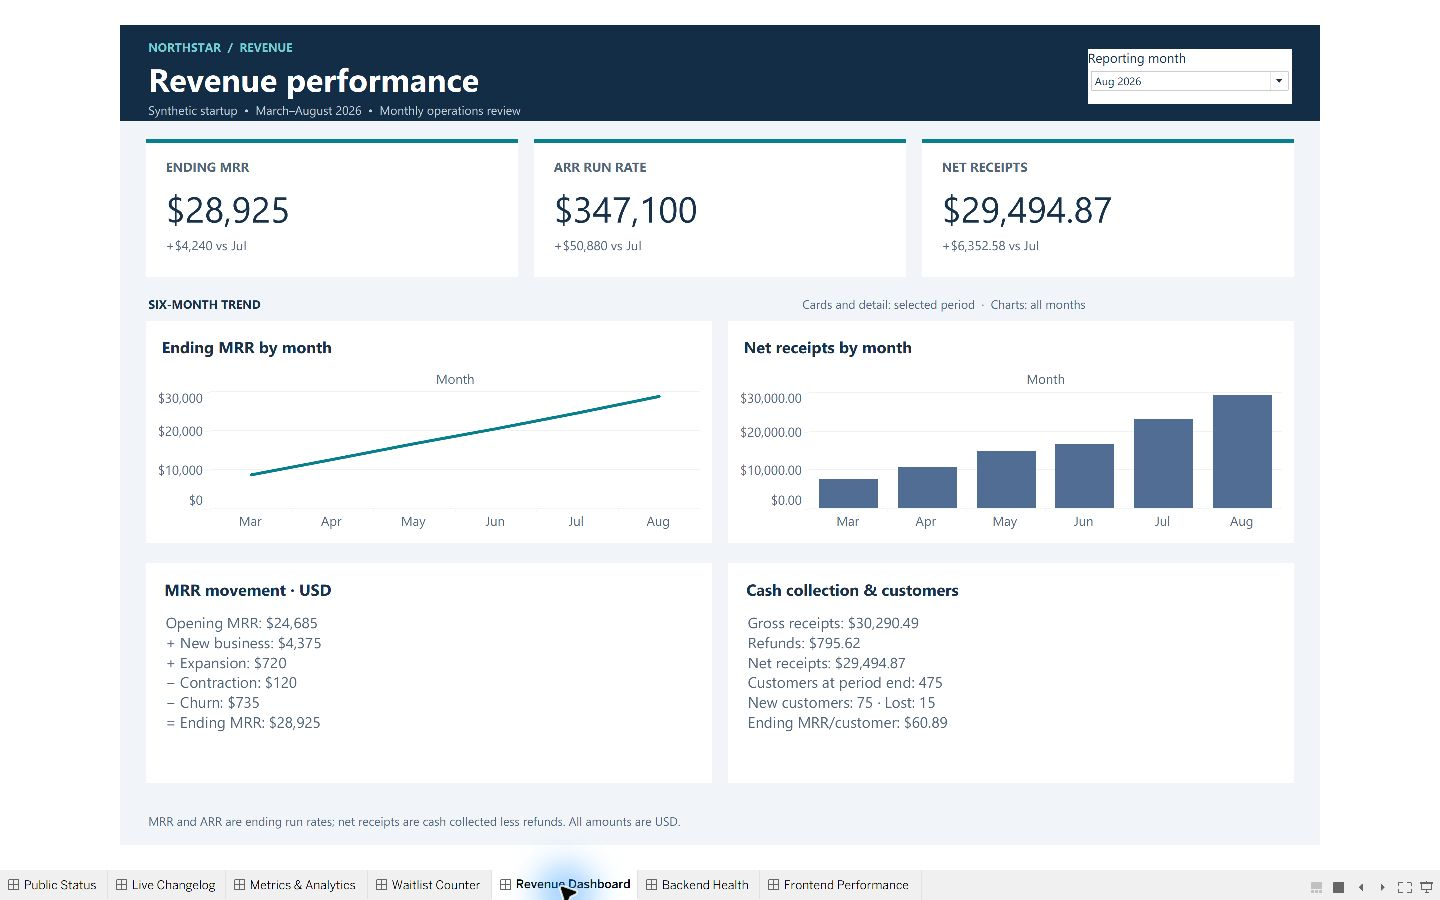

What the dashboard file says about the page in this screenshot:
{"tool":"tableau","page":{"name":"Revenue Dashboard","canvas":[1200,820],"ordinal":5},"visuals":[{"type":"text","box":[0,0,1200,820]},{"type":"text","box":[0,0,1200,96]},{"type":"text","box":[26,12,800,20]},{"type":"parameter","param":"[Parameters].[Period]","box":[968,24,204,55]},{"type":"text","box":[26,34,830,40]},{"type":"text","box":[26,76,840,18]},{"type":"text","box":[26,114,372,138]},{"type":"text","box":[26,114,372,4]},{"type":"text","box":[414,114,372,138]},{"type":"text","box":[414,114,372,4]},{"type":"text","box":[802,114,372,138]},{"type":"text","box":[802,114,372,4]},{"type":"worksheet","title":"05 KPI 1 Ending MRR","mark":"Text","box":[42,129,340,74]},{"type":"worksheet","title":"05 KPI 2 ARR run rate","mark":"Text","box":[430,129,340,74]},{"type":"worksheet","title":"05 KPI 3 Net receipts","mark":"Text","box":[818,129,340,74]},{"type":"worksheet","title":"D05 delta 1","mark":"Text","box":[42,211,340,29]},{"type":"worksheet","title":"D05 delta 2","mark":"Text","box":[430,211,340,29]},{"type":"worksheet","title":"D05 delta 3","mark":"Text","box":[818,211,340,29]},{"type":"text","box":[26,268,500,22]},{"type":"text","box":[680,268,492,22]},{"type":"text","box":[26,296,566,222]},{"type":"text","box":[608,296,566,222]},{"type":"worksheet","title":"05 Trend 1","mark":"Line","rows":["t_mrr"],"cols":["Month"],"box":[38,307,542,199]},{"type":"worksheet","title":"05 Trend 2","mark":"Bar","rows":["history_receipts"],"cols":["Month"],"box":[620,307,542,199]},{"type":"text","box":[26,538,566,220]},{"type":"text","box":[608,538,566,220]},{"type":"text","box":[42,551,534,28]},{"type":"text","box":[624,551,534,28]},{"type":"worksheet","title":"D05 detail 1","mark":"Text","box":[42,587,534,157]},{"type":"worksheet","title":"D05 detail 2","mark":"Text","box":[624,587,534,157]},{"type":"text","box":[26,776,1144,40]}]}

Visuals, with their boxes on the page's 1200x820 design canvas (x1, y1, x2, y2). These are canvas units, not pixel positions in the 1440x900 screenshot, which may show the page scaled, cropped or inside an application window:
text: 0, 0, 1200, 820
text: 0, 0, 1200, 96
text: 26, 12, 826, 32
parameter: 968, 24, 1172, 79
text: 26, 34, 856, 74
text: 26, 76, 866, 94
text: 26, 114, 398, 252
text: 26, 114, 398, 118
text: 414, 114, 786, 252
text: 414, 114, 786, 118
text: 802, 114, 1174, 252
text: 802, 114, 1174, 118
"05 KPI 1 Ending MRR" worksheet (Text marks): 42, 129, 382, 203
"05 KPI 2 ARR run rate" worksheet (Text marks): 430, 129, 770, 203
"05 KPI 3 Net receipts" worksheet (Text marks): 818, 129, 1158, 203
"D05 delta 1" worksheet (Text marks): 42, 211, 382, 240
"D05 delta 2" worksheet (Text marks): 430, 211, 770, 240
"D05 delta 3" worksheet (Text marks): 818, 211, 1158, 240
text: 26, 268, 526, 290
text: 680, 268, 1172, 290
text: 26, 296, 592, 518
text: 608, 296, 1174, 518
"05 Trend 1" worksheet (Line marks): 38, 307, 580, 506
"05 Trend 2" worksheet (Bar marks): 620, 307, 1162, 506
text: 26, 538, 592, 758
text: 608, 538, 1174, 758
text: 42, 551, 576, 579
text: 624, 551, 1158, 579
"D05 detail 1" worksheet (Text marks): 42, 587, 576, 744
"D05 detail 2" worksheet (Text marks): 624, 587, 1158, 744
text: 26, 776, 1170, 816
